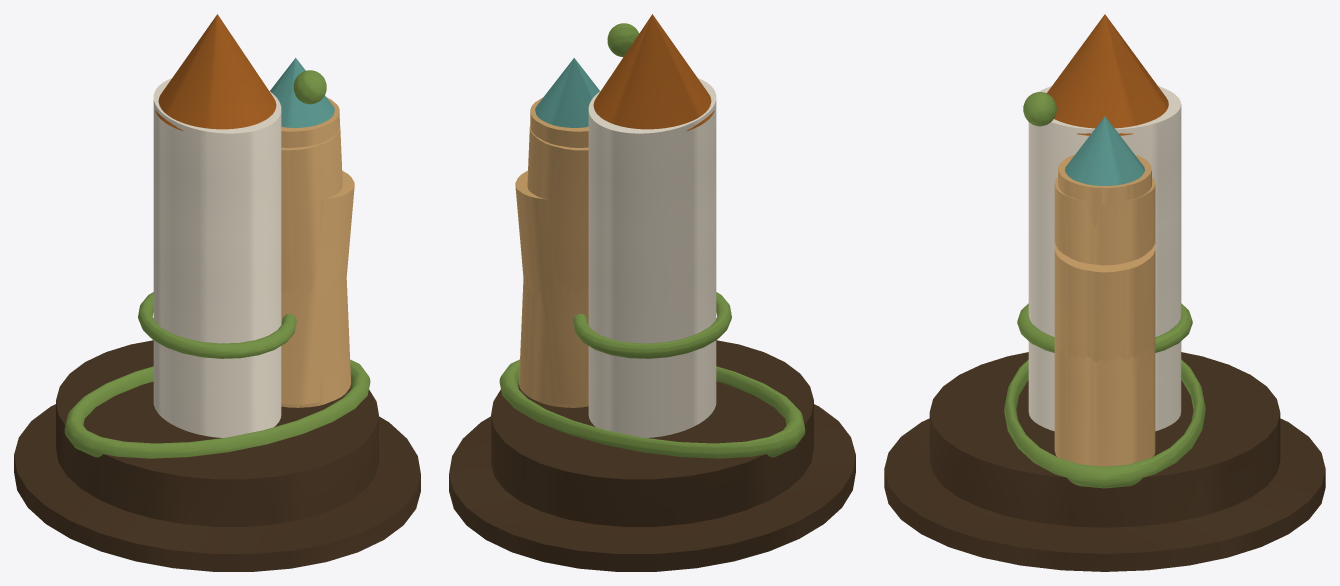
File: 0652_史前人类图鉴_南方古猿.glb
3 renders of one model, left to right at view 1: azimuth 30°, elevation 25°; view 2: azimuth 150°, elevation 25°; view 3: azimuth 270°, elevation 25°, orthographic.
Visible parts, largest first — view 1: card_0652; view 2: card_0652; view 3: card_0652.
Part boxes in pixels (x1,y1,x2,y2): card_0652: [14, 14, 420, 571]; card_0652: [449, 14, 855, 571]; card_0652: [884, 14, 1325, 571].
Bounding box in the file's own units: 0.7677 × 1 × 0.8456.
